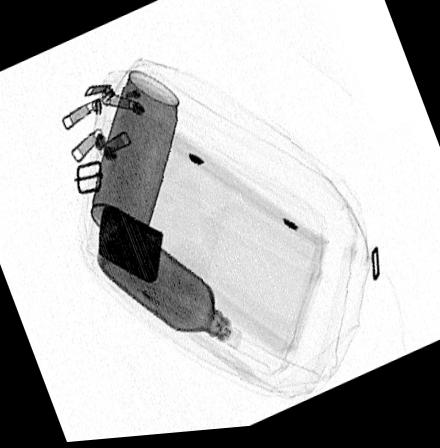Lighter: (99, 205, 164, 286)
